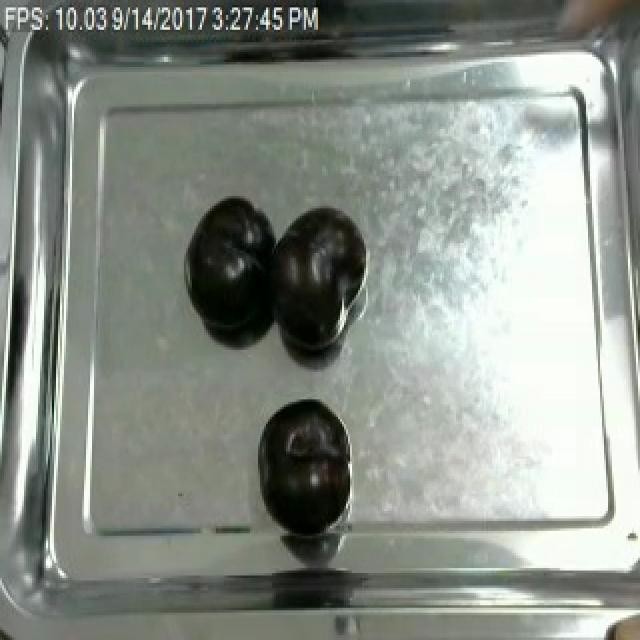Fruit: (260, 203, 366, 360), (180, 191, 282, 340), (256, 394, 352, 536), (594, 605, 640, 640)
